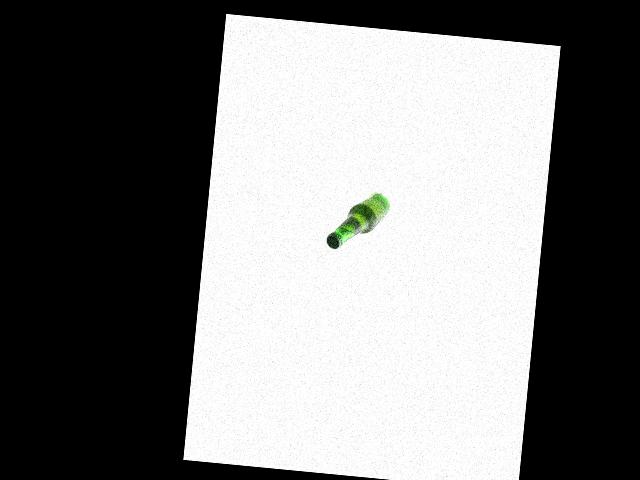beer: (325, 189, 390, 253)
